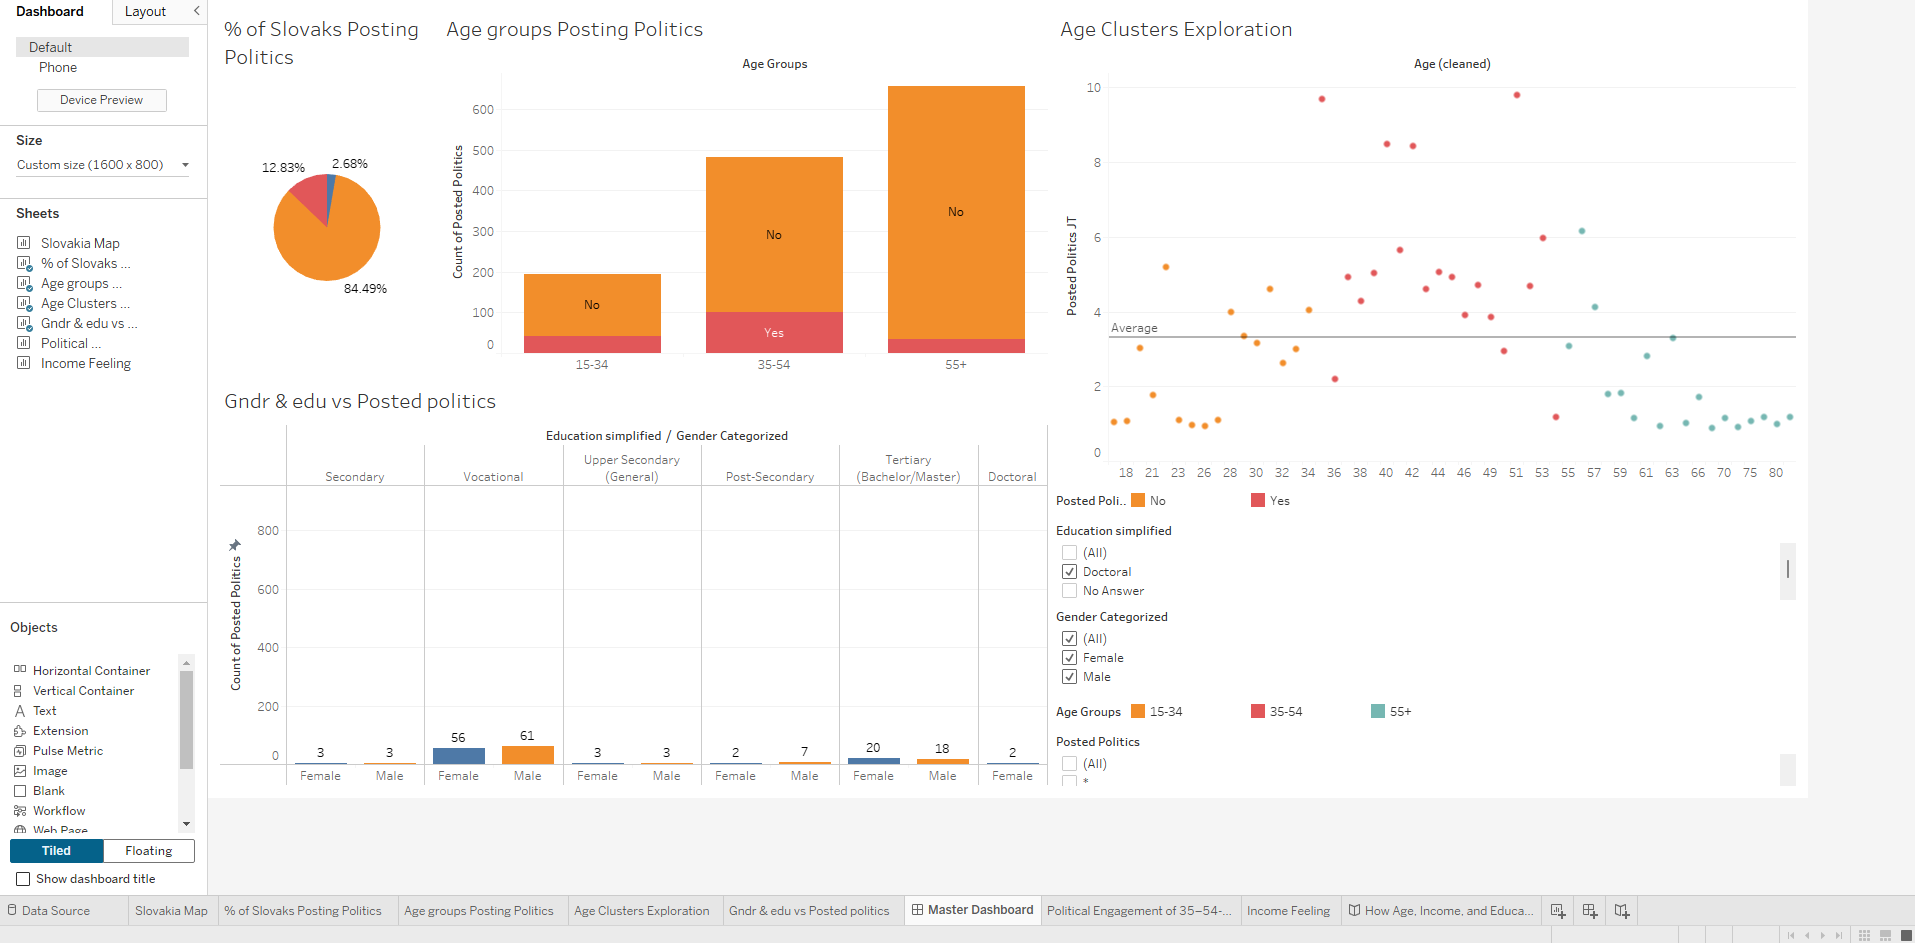

The dashboard page shown, as its layout file describes it:
{"tool":"tableau","page":{"name":"Master Dashboard","canvas":[1600,800],"ordinal":0},"visuals":[{"type":"worksheet","title":"% of Slovaks Posting Politics","mark":"Pie","box":[8,8,222.1,372]},{"type":"worksheet","title":"Age groups Posting Politics","mark":"Automatic","rows":["Calculation_1432144708289118209"],"cols":["Calculation_1432144708288946176"],"box":[230.1,8,613.9,372]},{"type":"worksheet","title":"Age Clusters Exploration","mark":"Circle","rows":["Calculation_1432144708304670724"],"cols":["Calculation_1432144708299509763"],"box":[844,8,748,480]},{"type":"worksheet","title":"Gndr & edu vs Posted politics","mark":"Automatic","rows":["Calculation_1432144708289118209"],"cols":["Calculation_1432144708325253126","Calculation_1432144708323295237"],"box":[8,380,836,412]},{"type":"legend","title":"Age groups Posting Politics","param":"[federated.0i641vg0k1glpw10tw7m308r0wq1].[none:Calculation_1432144708289118209:n","box":[844,488,748,32]},{"type":"filter","title":"Gndr & edu vs Posted politics","param":"[federated.0i641vg0k1glpw10tw7m308r0wq1].[none:Calculation_1432144708325253126:n","box":[844,520,748,86]},{"type":"filter","title":"Gndr & edu vs Posted politics","param":"[federated.0i641vg0k1glpw10tw7m308r0wq1].[none:Calculation_1432144708323295237:n","box":[844,606,748,93]},{"type":"legend","title":"Age Clusters Exploration","param":"[federated.0i641vg0k1glpw10tw7m308r0wq1].[none:Calculation_1432144708288946176:n","box":[844,699,748,32]},{"type":"filter","title":"Age groups Posting Politics","param":"[federated.0i641vg0k1glpw10tw7m308r0wq1].[attr:Calculation_1432144708289118209:n","box":[844,731,748,61]}]}

Visuals, with their boxes on the page's 1600x800 design canvas (x1, y1, x2, y2). These are canvas units, not pixel positions in the 1915x943 screenshot, which may show the page scaled, cropped or inside an application window:
"% of Slovaks Posting Politics" worksheet (Pie marks): {"x1": 8, "y1": 8, "x2": 230, "y2": 380}
"Age groups Posting Politics" worksheet: {"x1": 230, "y1": 8, "x2": 844, "y2": 380}
"Age Clusters Exploration" worksheet (Circle marks): {"x1": 844, "y1": 8, "x2": 1592, "y2": 488}
"Gndr & edu vs Posted politics" worksheet: {"x1": 8, "y1": 380, "x2": 844, "y2": 792}
"Age groups Posting Politics" legend: {"x1": 844, "y1": 488, "x2": 1592, "y2": 520}
"Gndr & edu vs Posted politics" filter: {"x1": 844, "y1": 520, "x2": 1592, "y2": 606}
"Gndr & edu vs Posted politics" filter: {"x1": 844, "y1": 606, "x2": 1592, "y2": 699}
"Age Clusters Exploration" legend: {"x1": 844, "y1": 699, "x2": 1592, "y2": 731}
"Age groups Posting Politics" filter: {"x1": 844, "y1": 731, "x2": 1592, "y2": 792}
